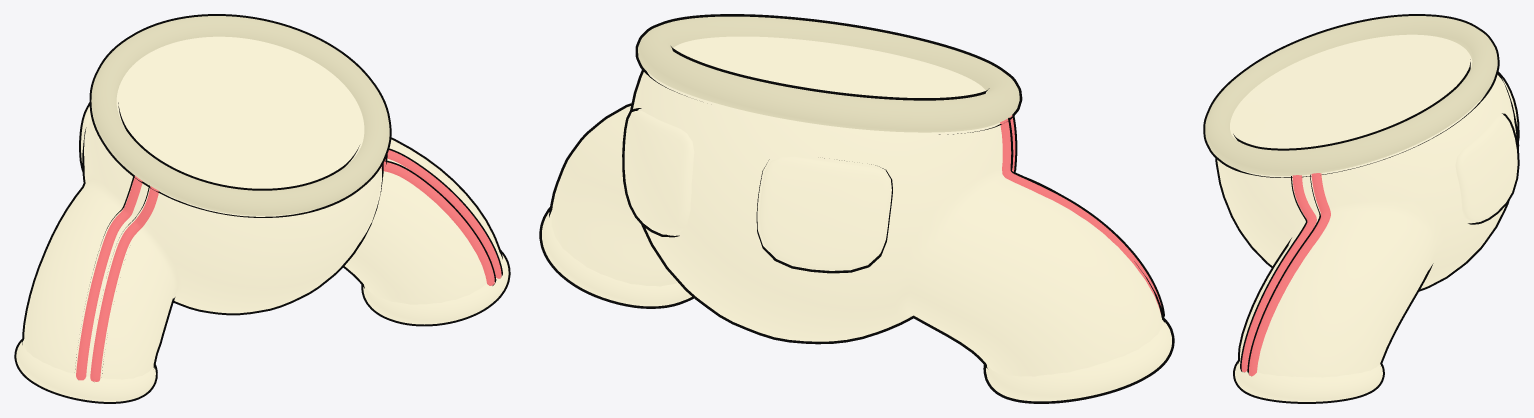
Rendered from BOTTOMS.SPORT.BASEBALL.glb.
The picture shows the model from 3 angles, left to right: view 1: azimuth 30°, elevation 25°; view 2: azimuth 150°, elevation 25°; view 3: azimuth 270°, elevation 25°; orthographic projection. The views are drawn at different scales.
Parts seen in each view (by area): view 1: BOTTOMS.SPORT.BASEBALL; view 2: BOTTOMS.SPORT.BASEBALL; view 3: BOTTOMS.SPORT.BASEBALL.
Part boxes in pixels (<box>): BOTTOMS.SPORT.BASEBALL: <box>14,14,510,403</box>; BOTTOMS.SPORT.BASEBALL: <box>539,14,1174,403</box>; BOTTOMS.SPORT.BASEBALL: <box>1203,14,1519,403</box>.
Size of the model in its own units: 2.07 by 1.1 by 1.19.
